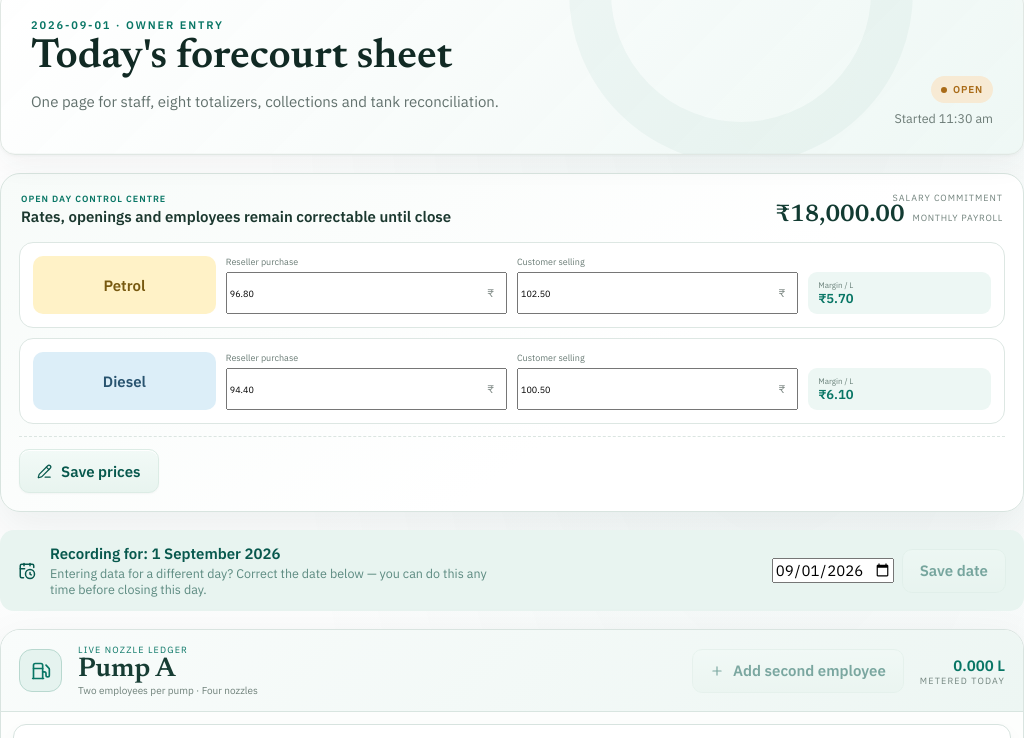
DailyForecourtSheet › persists an edited active-day rate as the fuel's new default price for future days, not just today's shift
Replace the text in the number field named "Petrol active customer selling price" with "108.17" at coordinates (658, 293), box [517, 272, 798, 314]
(page scrolled)
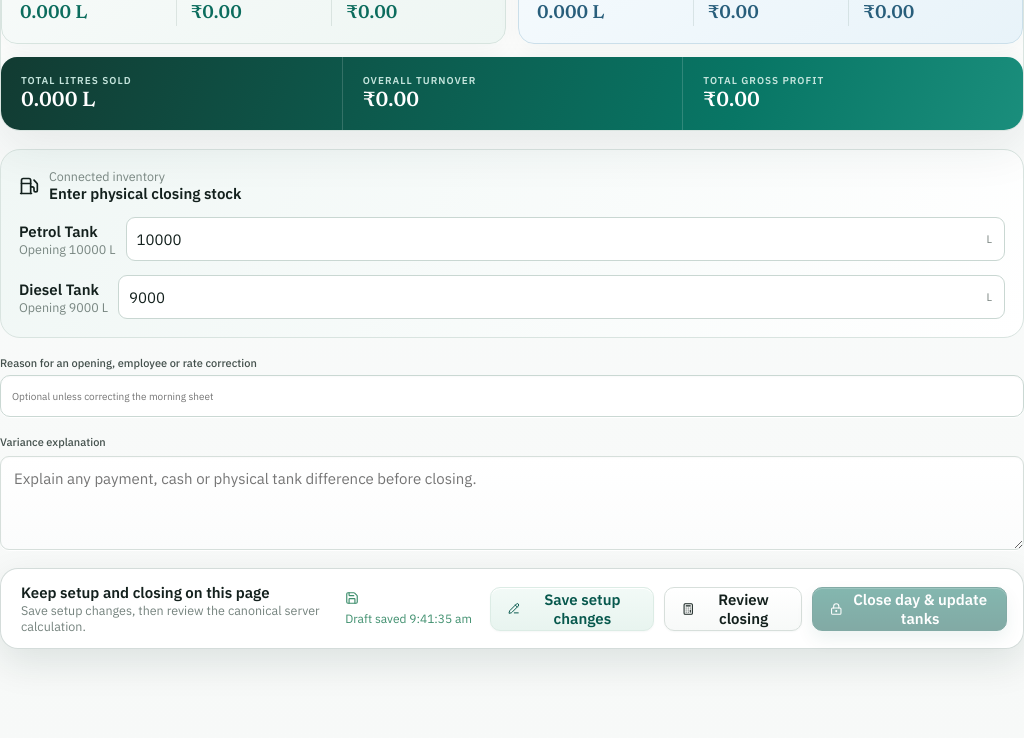
Click the button "Save setup changes".
click(572, 609)  # box [490, 587, 654, 631]
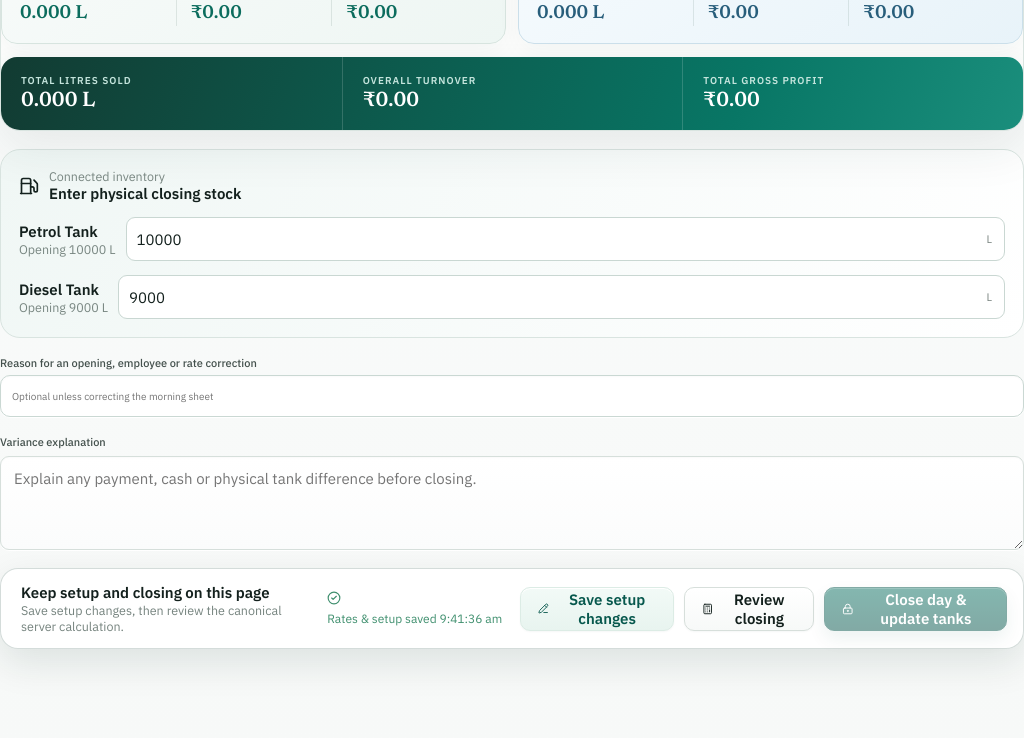
Expected: the text "Rates & setup saved 9:41:36 am" is shown, [327, 591, 502, 626]
